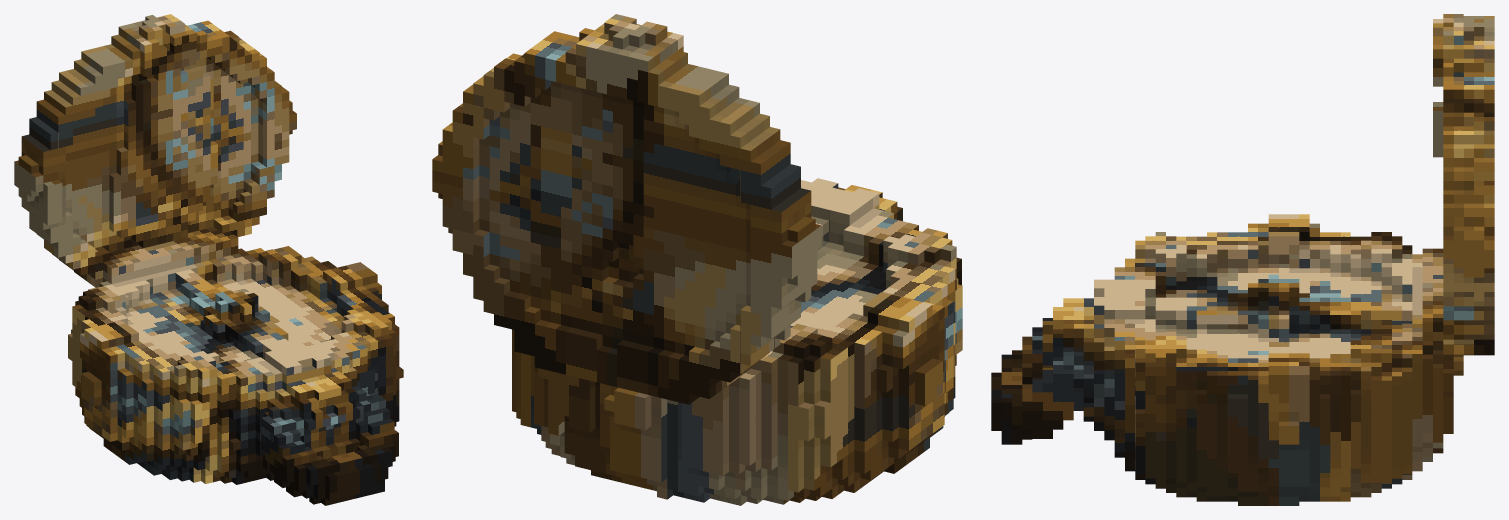
File: traveler-windrose.glb
3 views of the same model, side by side, from view 1: azimuth 30°, elevation 25°; view 2: azimuth 150°, elevation 25°; view 3: azimuth 270°, elevation 25° (orthographic). The views are drawn at different scales.
Parts seen in each view (by area): view 1: traveler-windrose_voxels; view 2: traveler-windrose_voxels; view 3: traveler-windrose_voxels.
Boxes of the visible parts, <box> form: traveler-windrose_voxels: <box>14,14,403,505</box>; traveler-windrose_voxels: <box>432,14,962,505</box>; traveler-windrose_voxels: <box>991,14,1494,505</box>.
Size of the model in its own units: 0.7959 by 0.898 by 1.
1 material, 1 textured.
